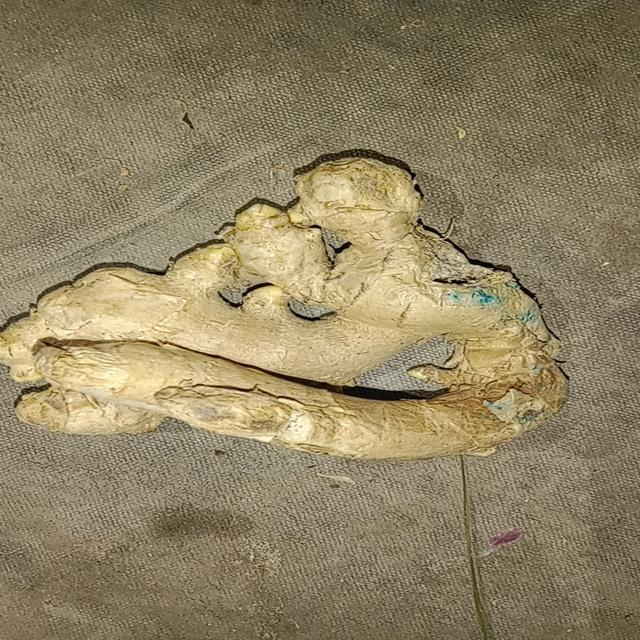ginger: (9, 153, 574, 462)
